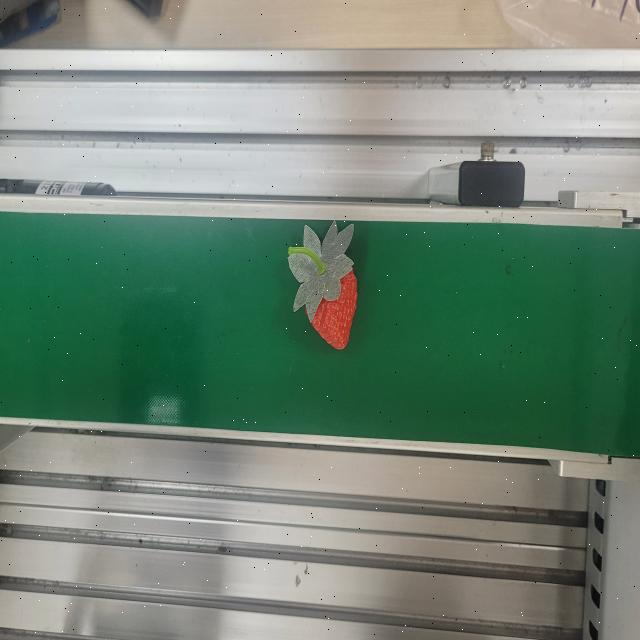Small Ripe Strawberry: (286, 218, 360, 352)
